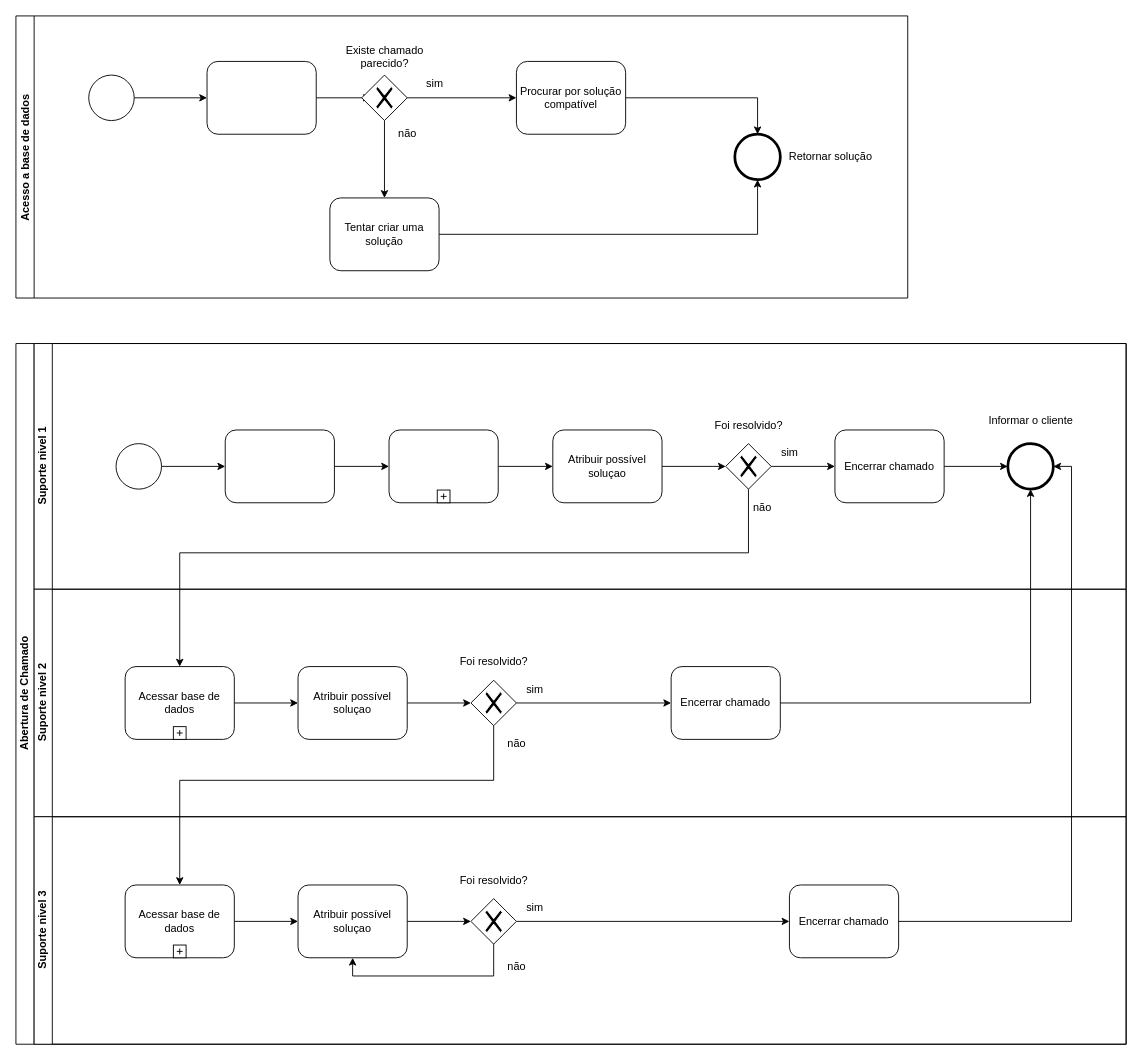
Image size: 1142x1060. Some labels were removed from this diagram. Here are the shapes that lost their labels. From the top down, the centre of each, then its label:
At [111,97]: "Acessou o banco de dados".
At [261,97]: "Procurar por chamados parecidos".
At [138,466]: "Recebeu um chamado".
At [279,466]: "Categorizar chamado".
At [443,466]: "Acessar a base de dados".
